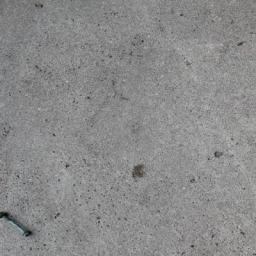FOD: (1, 207, 37, 241)
